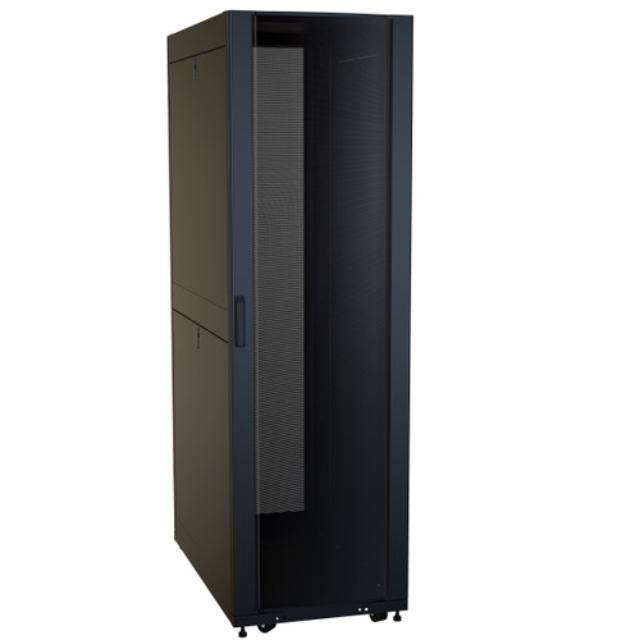Server: (157, 2, 427, 640)
